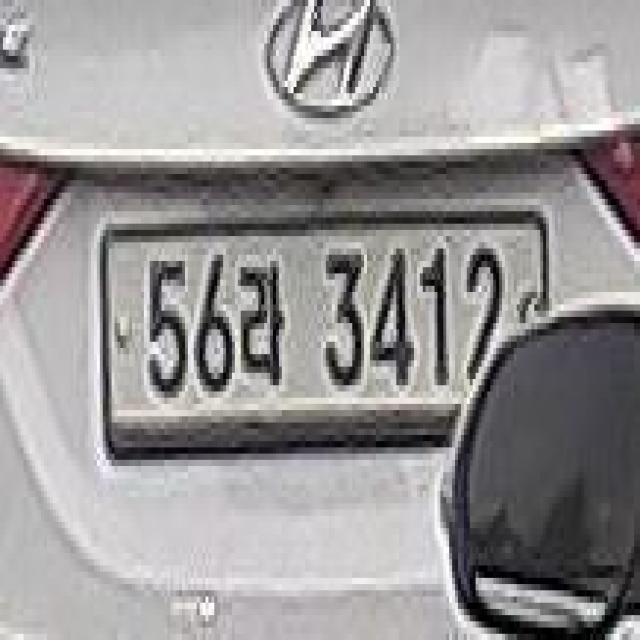illegal_plate: (84, 196, 521, 469)
